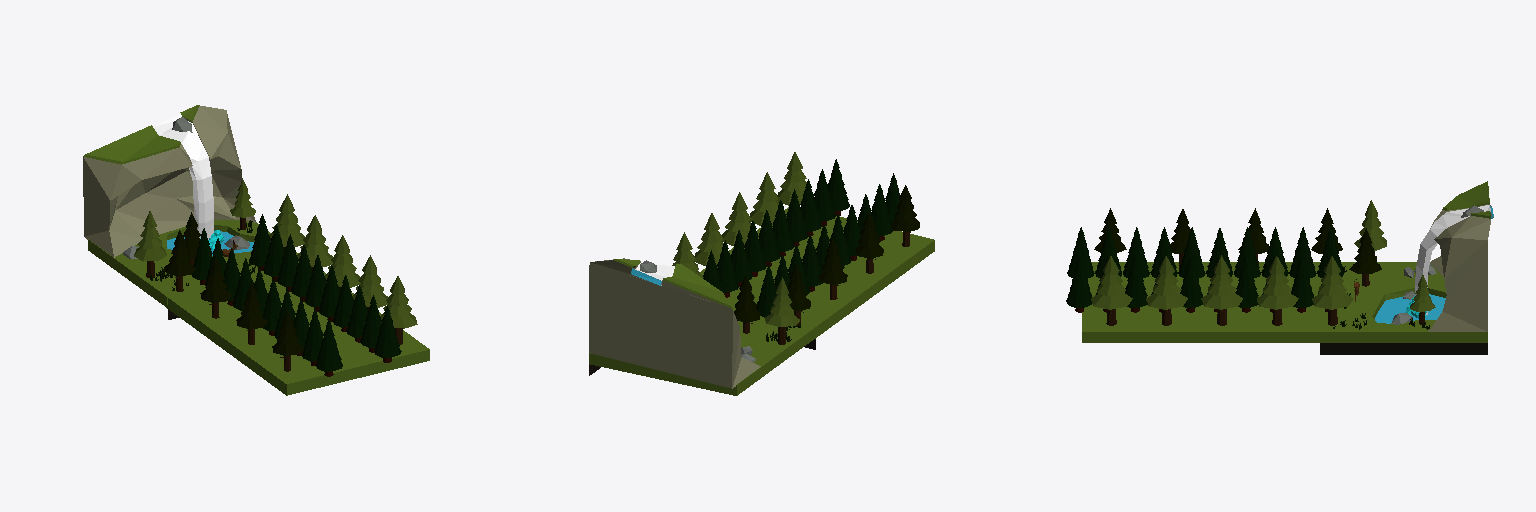
File: jakatarub.obj
3 views of the same model, side by side, from view 1: azimuth 30°, elevation 25°; view 2: azimuth 150°, elevation 25°; view 3: azimuth 270°, elevation 25° (orthographic).
Parts seen in each view (by area): view 1: Cave_Icosphere, Cube_Cube.040, Cylinder, Cylinder.001, Tree.004_Cylinder.007, Tree.002_Cylinder.004, FloorCube_Cube.001, Tree_Cylinder.002, Tree.001_Cylinder.003; view 2: Cave_Icosphere, Cylinder, Cube_Cube.040, Cylinder.001, Tree.004_Cylinder.007, FloorCube_Cube.001, Tree.002_Cylinder.004, Tree_Cylinder.002, Tree.003_Cylinder.006; view 3: Cube_Cube.040, FloorCube_Cube.001, Cave_Icosphere, Tree.004_Cylinder.007, Cylinder.001, Cylinder, Tree.002_Cylinder.004, WaterPond_Plane.002, Tree.003_Cylinder.006, Tree_Cylinder.002, Tree.001_Cylinder.003.
Part boxes in pixels (bbox=[...]): Cave_Icosphere: bbox=[83, 105, 256, 257]; Cube_Cube.040: bbox=[166, 272, 429, 395]; Cylinder: bbox=[249, 214, 401, 362]; Cylinder.001: bbox=[192, 228, 342, 376]; Tree.004_Cylinder.007: bbox=[269, 194, 417, 344]; Tree.002_Cylinder.004: bbox=[165, 230, 303, 371]; FloorCube_Cube.001: bbox=[88, 220, 298, 319]; Tree_Cylinder.002: bbox=[134, 211, 166, 277]; Tree.001_Cylinder.003: bbox=[230, 180, 255, 229]; Cave_Icosphere: bbox=[589, 258, 760, 388]; Cylinder: bbox=[703, 159, 849, 297]; Cube_Cube.040: bbox=[700, 207, 934, 338]; Cylinder.001: bbox=[756, 173, 899, 317]; Tree.004_Cylinder.007: bbox=[672, 152, 806, 277]; FloorCube_Cube.001: bbox=[589, 308, 815, 395]; Tree.002_Cylinder.004: bbox=[788, 185, 919, 326]; Tree_Cylinder.002: bbox=[765, 277, 799, 344]; Tree.003_Cylinder.006: bbox=[734, 276, 760, 333]; Cube_Cube.040: bbox=[1082, 262, 1322, 342]; FloorCube_Cube.001: bbox=[1320, 262, 1487, 354]; Cave_Icosphere: bbox=[1415, 181, 1493, 331]; Tree.004_Cylinder.007: bbox=[1091, 255, 1353, 325]; Cylinder.001: bbox=[1067, 227, 1343, 278]; Cylinder: bbox=[1066, 255, 1330, 312]; Tree.002_Cylinder.004: bbox=[1094, 208, 1342, 269]; WaterPond_Plane.002: bbox=[1375, 294, 1445, 323]; Tree.003_Cylinder.006: bbox=[1349, 228, 1381, 286]; Tree_Cylinder.002: bbox=[1354, 200, 1386, 256]; Tree.001_Cylinder.003: bbox=[1410, 275, 1435, 324].
Size of the model in its own units: 14.42 by 11.51 by 35.56.